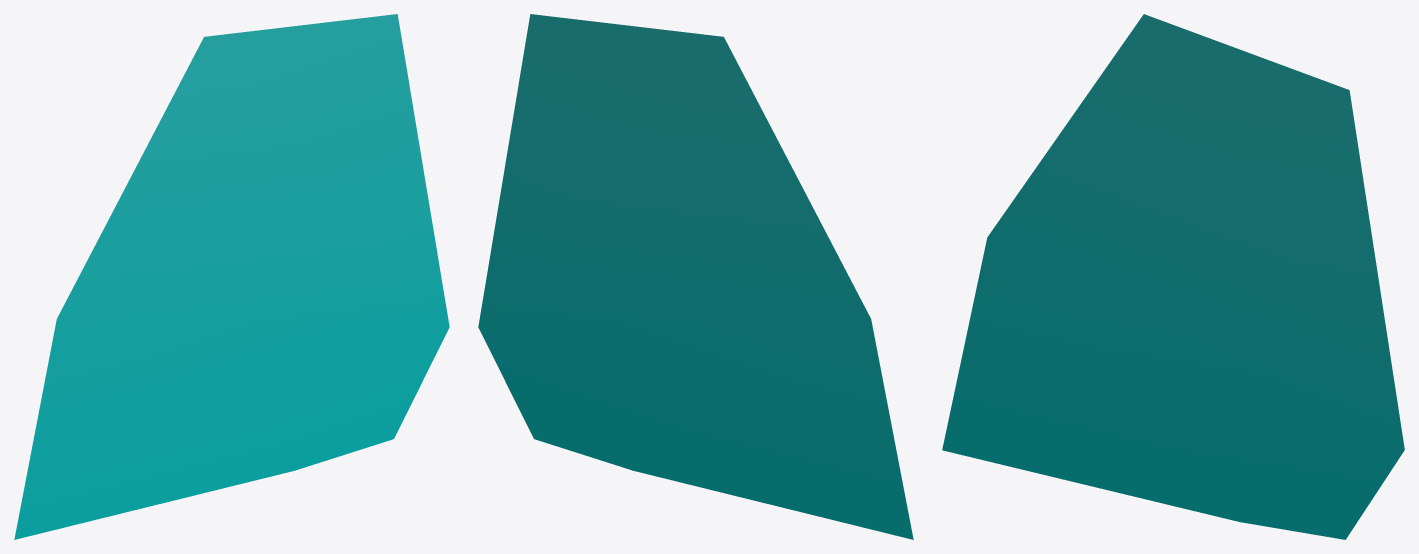
File: uddmcgbia_VarJ_LOD2.fbx
3 renders of one model, left to right at view 1: azimuth 30°, elevation 25°; view 2: azimuth 150°, elevation 25°; view 3: azimuth 330°, elevation 25°, orthographic. The views are drawn at different scales.
Visible parts, largest first — view 1: _e4e2_VarJ_LOD4; view 2: _e4e2_VarJ_LOD4; view 3: _e4e2_VarJ_LOD4.
Part boxes in pixels (<box>): _e4e2_VarJ_LOD4: <box>14,14,449,539</box>; _e4e2_VarJ_LOD4: <box>478,14,913,539</box>; _e4e2_VarJ_LOD4: <box>942,14,1404,539</box>.
Bounding box in the file's own units: 23.33 × 23.39 × 0.
